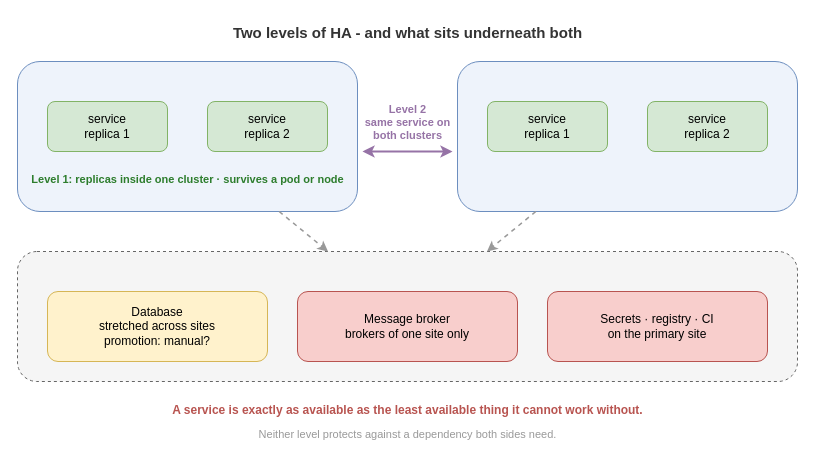
Some shapes in this 815 by 458 pixel diagram are drawn without their labels. The shapes that lost their labels are listed below. From the top down, each one's box as (x1, y1, x2, y2) in pixels, then its label:
(16, 60, 358, 212): Primary cluster · gets the traffic
(456, 60, 798, 212): Backup cluster · standby
(16, 250, 798, 382): Dependencies both levels share
